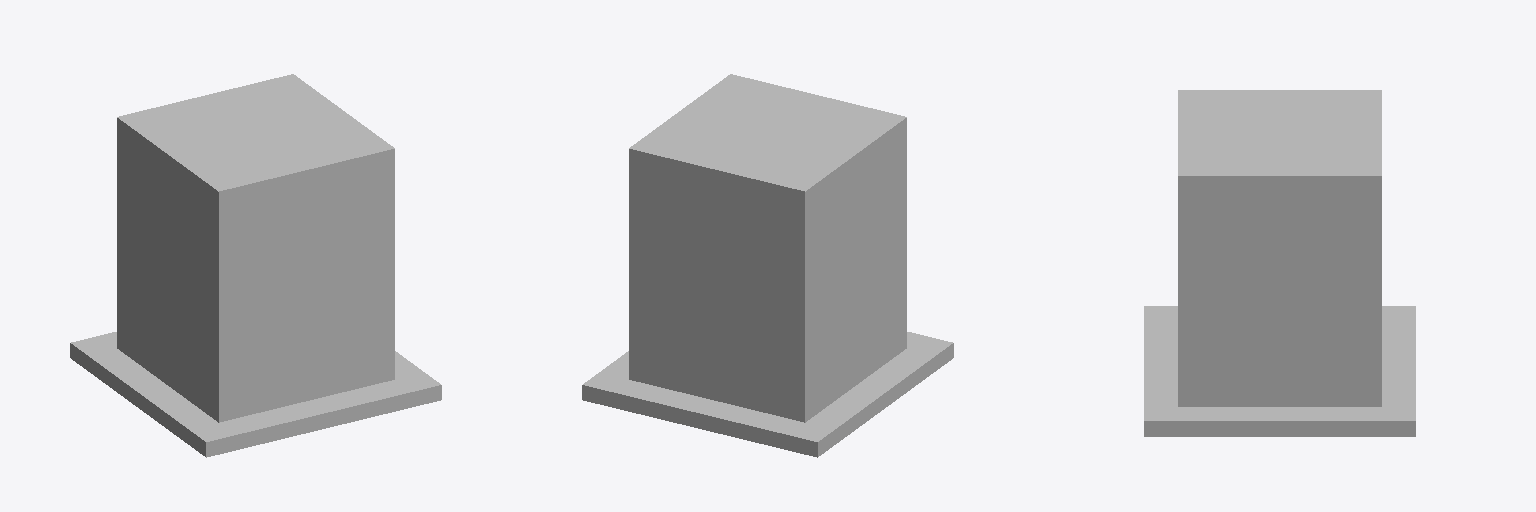
The model's file is M_Ludem_Tile_Building.obj.
3 renders of one model, left to right at view 1: azimuth 30°, elevation 25°; view 2: azimuth 150°, elevation 25°; view 3: azimuth 270°, elevation 25°, orthographic.
Visible parts, largest first — view 1: cube; view 2: cube; view 3: cube.
Boxes of the visible parts, box(x1,y1,x2,y2) form: cube: box(70, 74, 441, 457); cube: box(582, 74, 953, 457); cube: box(1144, 90, 1415, 436).
Size of the model in its own units: 1 by 1 by 1.